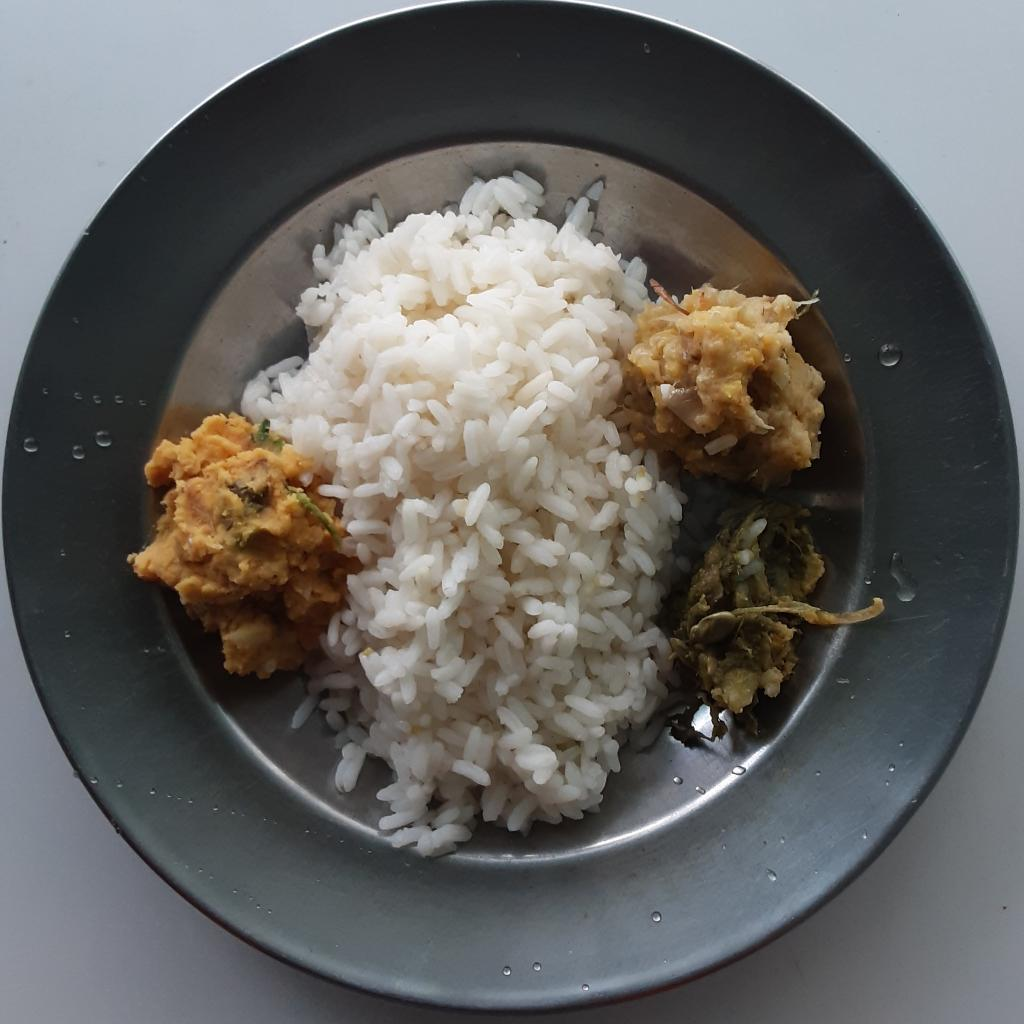daal: (122, 411, 341, 670)
potato-mashed: (624, 282, 830, 483)
rice: (230, 164, 698, 857)
shim: (671, 498, 884, 750)
